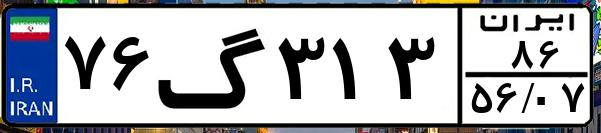0: (535, 70, 560, 125)
1: (330, 28, 385, 110)
3: (270, 28, 330, 110), (385, 28, 445, 110)
5: (470, 70, 495, 125)
6: (110, 28, 156, 98), (537, 27, 568, 80), (495, 70, 520, 125)
7: (57, 26, 110, 100), (560, 70, 590, 125)
8: (508, 27, 537, 80)
گ: (156, 12, 270, 120)
